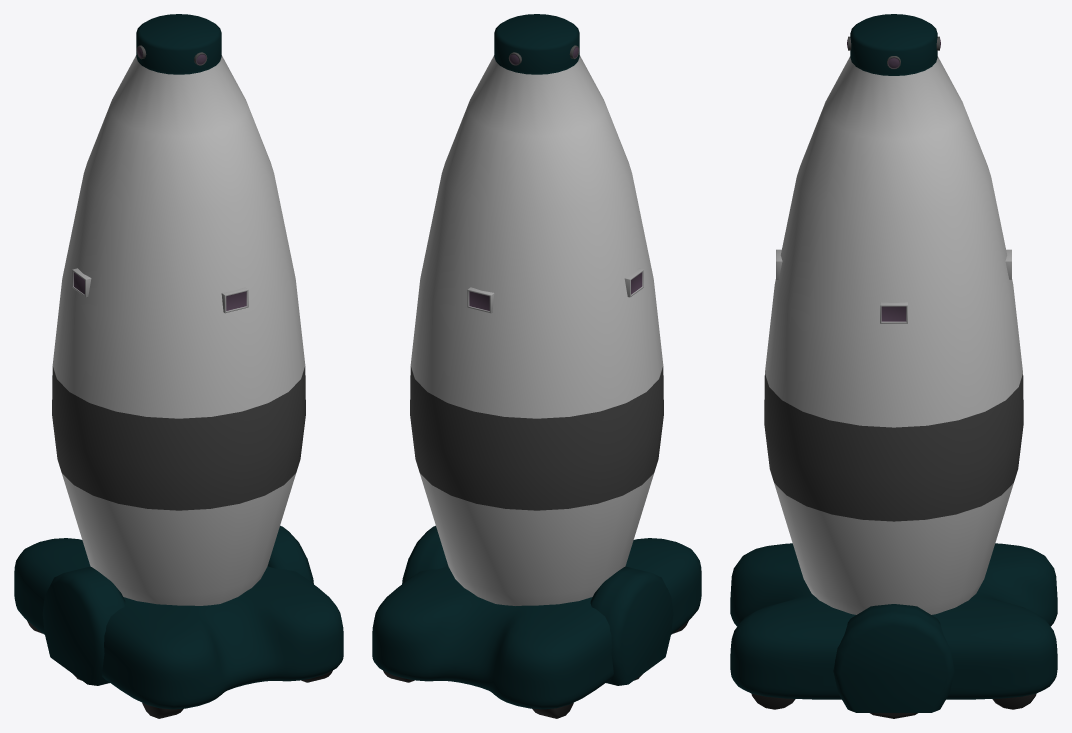
File: security_robot.glb
3 views of the same model, side by side, from view 1: azimuth 30°, elevation 25°; view 2: azimuth 150°, elevation 25°; view 3: azimuth 270°, elevation 25° (orthographic). The views are drawn at different scales.
Parts seen in each view (by area): view 1: Body, Trolly, WheelCover, LiDAR; view 2: Body, Trolly, WheelCover, LiDAR; view 3: Body, Trolly, WheelCover, Wheel.001, LiDAR.001.
Part boxes in pixels (x1,y1,x2,y2): Body: (52,14,305,605); Trolly: (14,538,343,709); WheelCover: (42,525,313,685); LiDAR: (221,287,248,313); Body: (410,14,663,605); Trolly: (372,538,701,709); WheelCover: (402,525,673,685); LiDAR: (467,287,494,313); Body: (764,14,1023,614); Trolly: (730,543,1057,699); WheelCover: (833,604,954,712); Wheel.001: (751,693,1036,709); LiDAR.001: (880,302,907,323).
Size of the model in its own units: 0.5215 by 1.41 by 0.6579.
